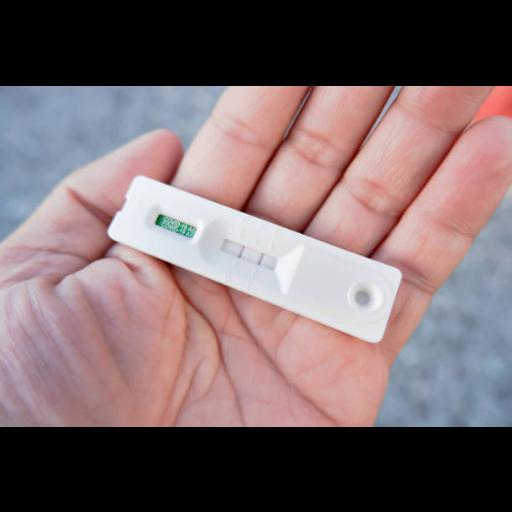Pos: (103, 173, 403, 346)
